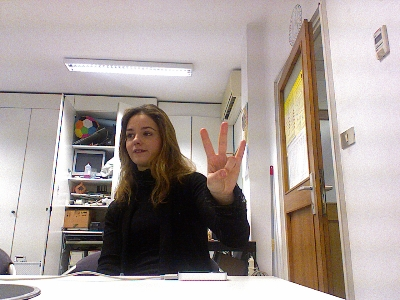观音: (198, 120, 246, 199)
